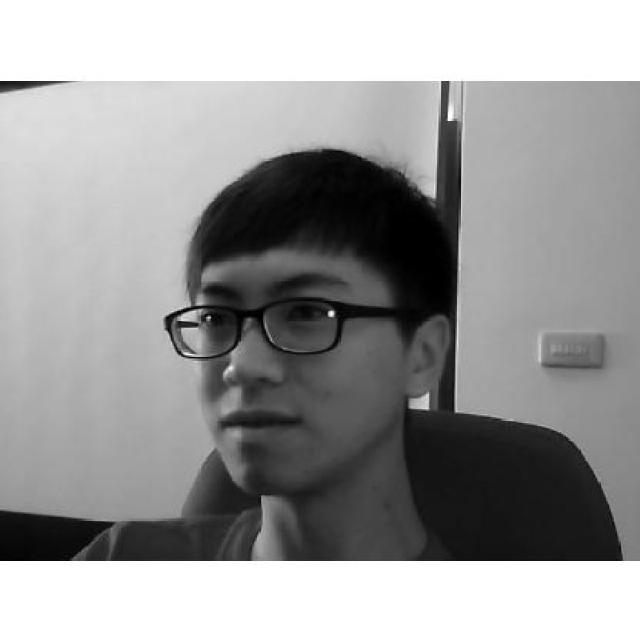attentif: (164, 146, 450, 494)
